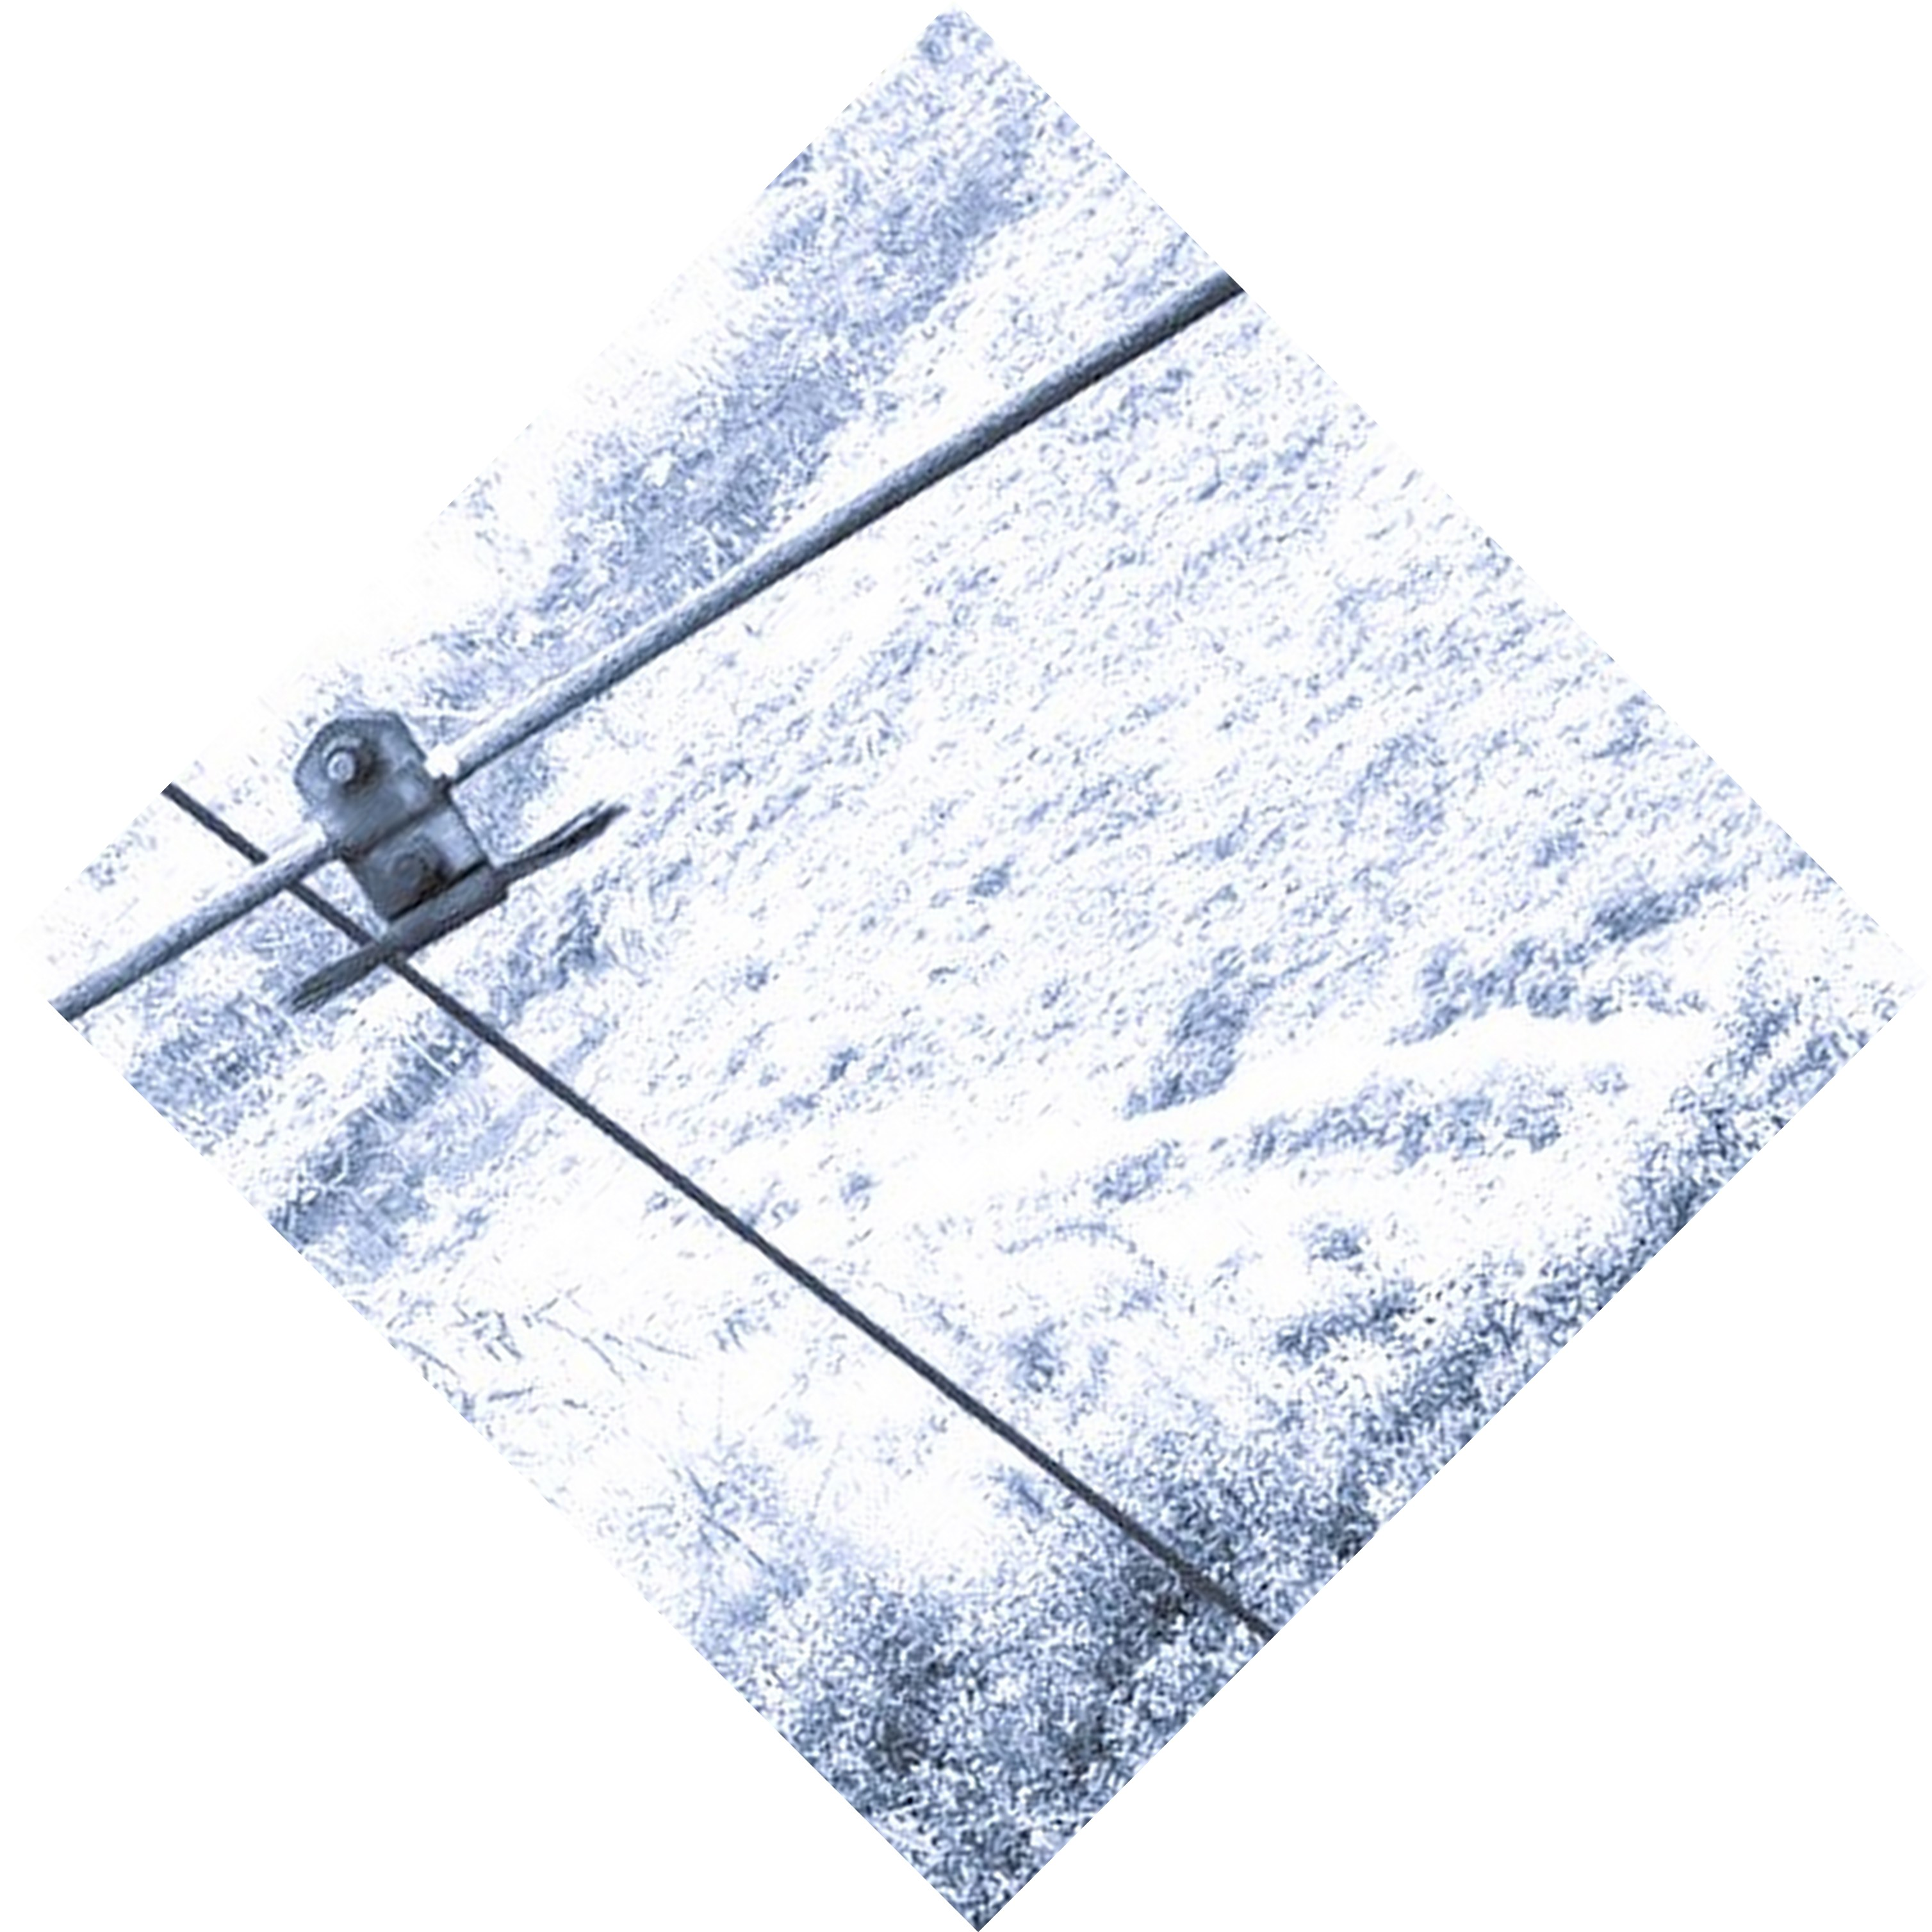Damage of shockproof hammer: (260, 665, 646, 1033)
